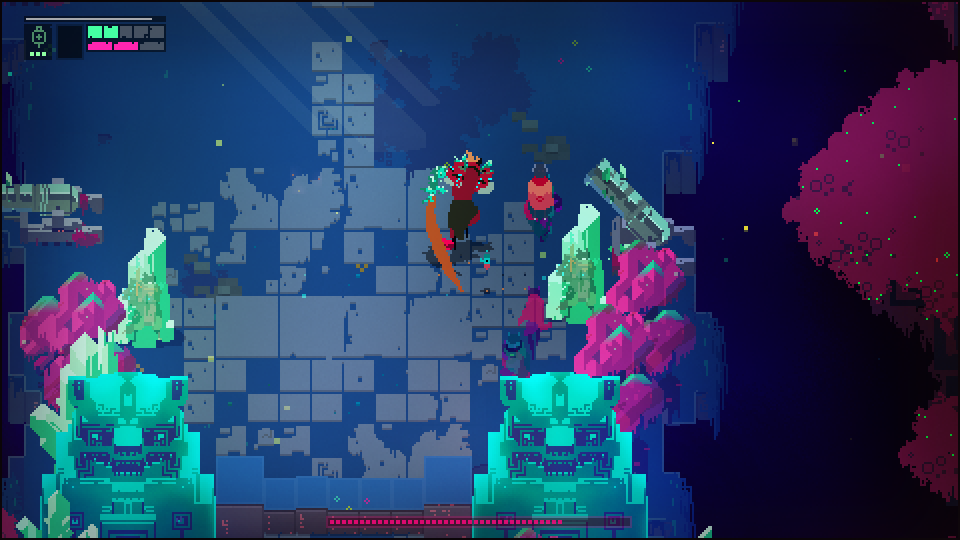hanged_man: (420, 146, 498, 266)
player: (524, 162, 556, 223)
